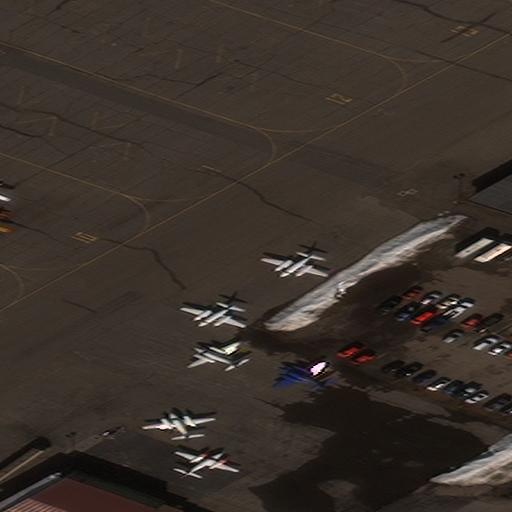Small Civil Transport: (140, 412, 214, 439), (175, 450, 238, 478), (259, 253, 327, 277), (179, 303, 243, 328), (273, 359, 321, 390), (185, 341, 238, 367)
